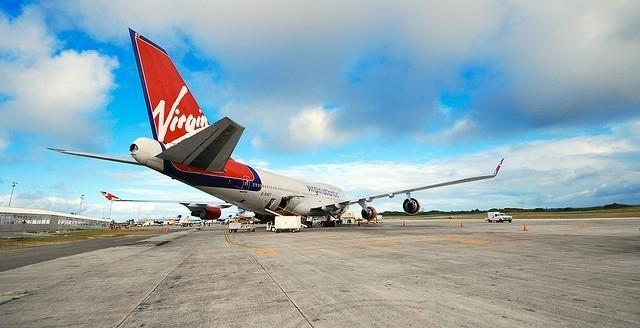truck: (266, 217, 302, 233), (228, 221, 256, 234), (485, 212, 513, 224), (302, 216, 322, 224)
